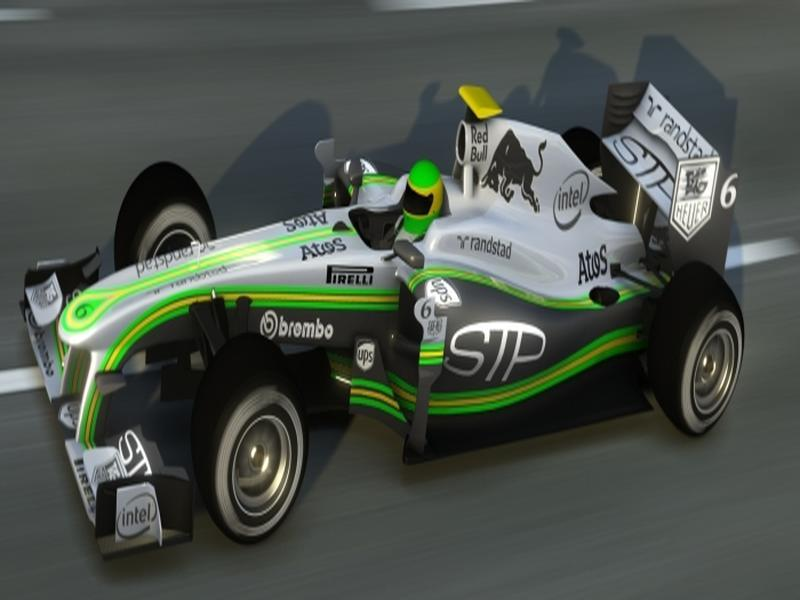f1: (26, 63, 756, 568)
